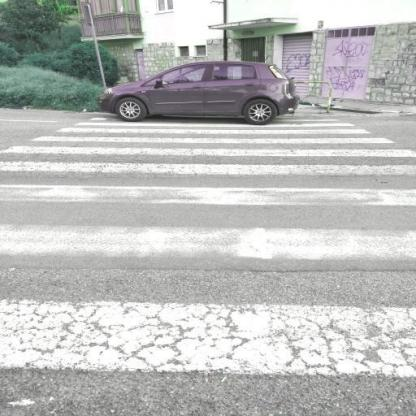crosswalk: (0, 177, 416, 276), (29, 126, 403, 148)
